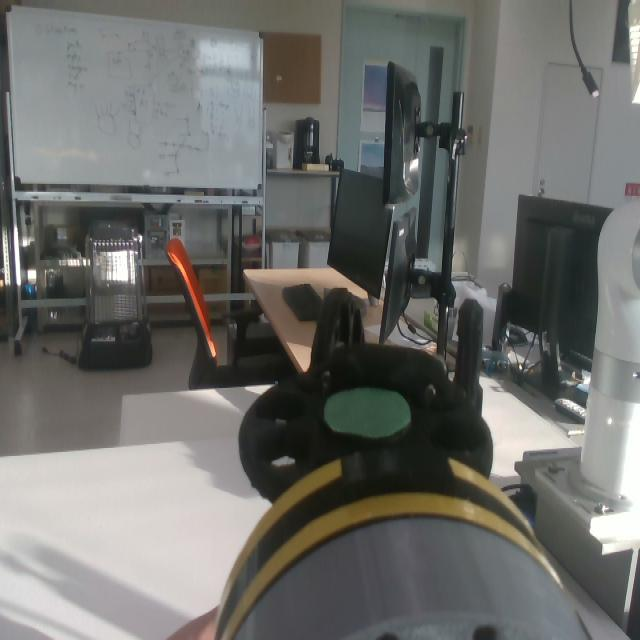body_connector: (233, 515, 592, 640)
connection: (209, 447, 587, 640)
leg: (212, 288, 552, 640)
leg_connector: (206, 449, 545, 637)
marker: (322, 386, 411, 436)
